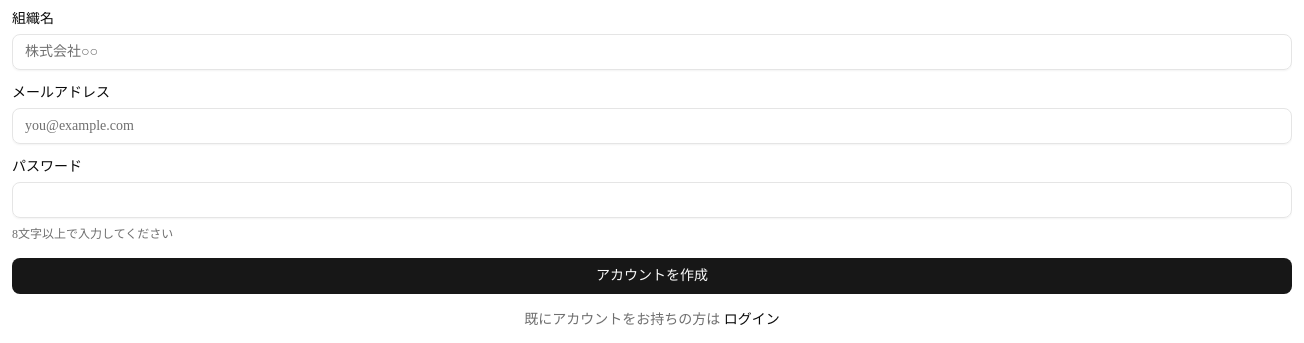
Test: SignupForm › パスワードが7文字（境界の下）のとき、エラーが補足説明を置き換える
Type "株式会社テスト" into the field labelled "組織名" at (652, 52), box [12, 34, 1292, 70]
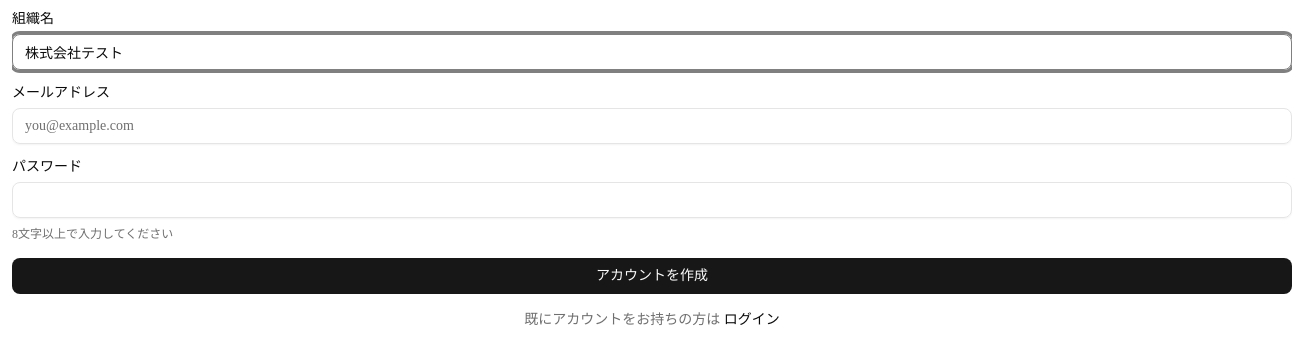
Type "user@example.com" into the field labelled "メールアドレス" at (652, 126), box [12, 108, 1292, 144]
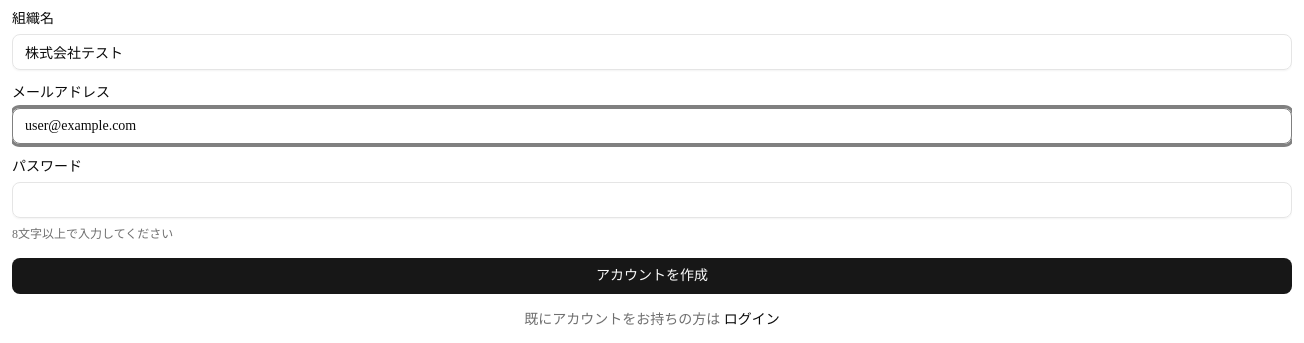
Type "1234567" into the password field labelled "パスワード" at (652, 200), box [12, 182, 1292, 218]
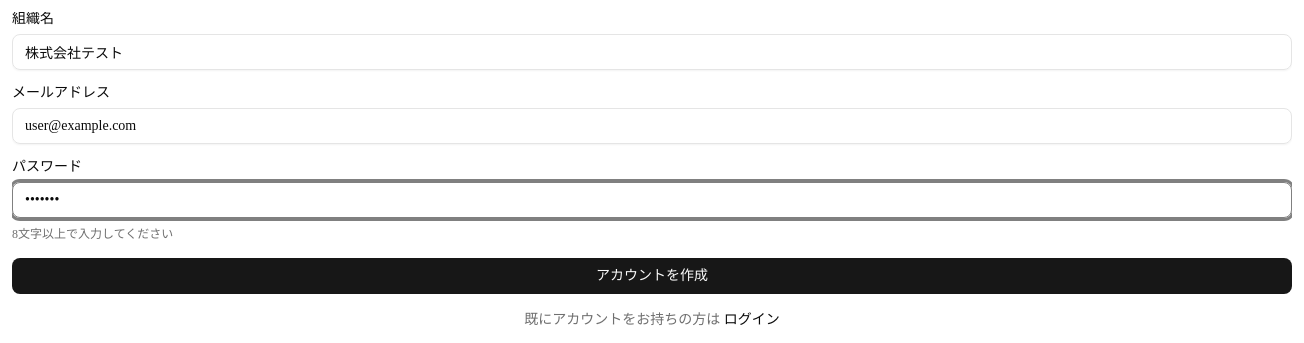
Click the button "アカウントを作成" at (652, 276), box [12, 258, 1292, 294]
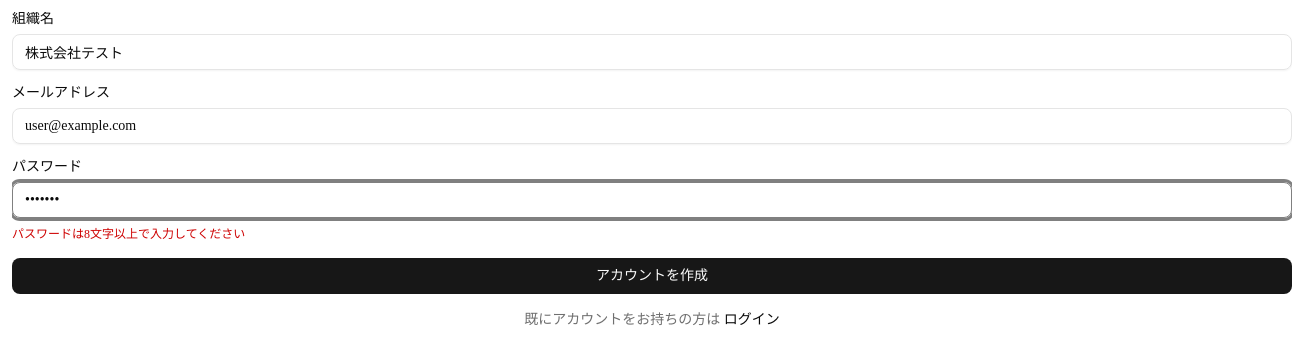
expect the text "パスワードは8文字以上で入力してください" is shown: met, box [12, 227, 245, 241]
